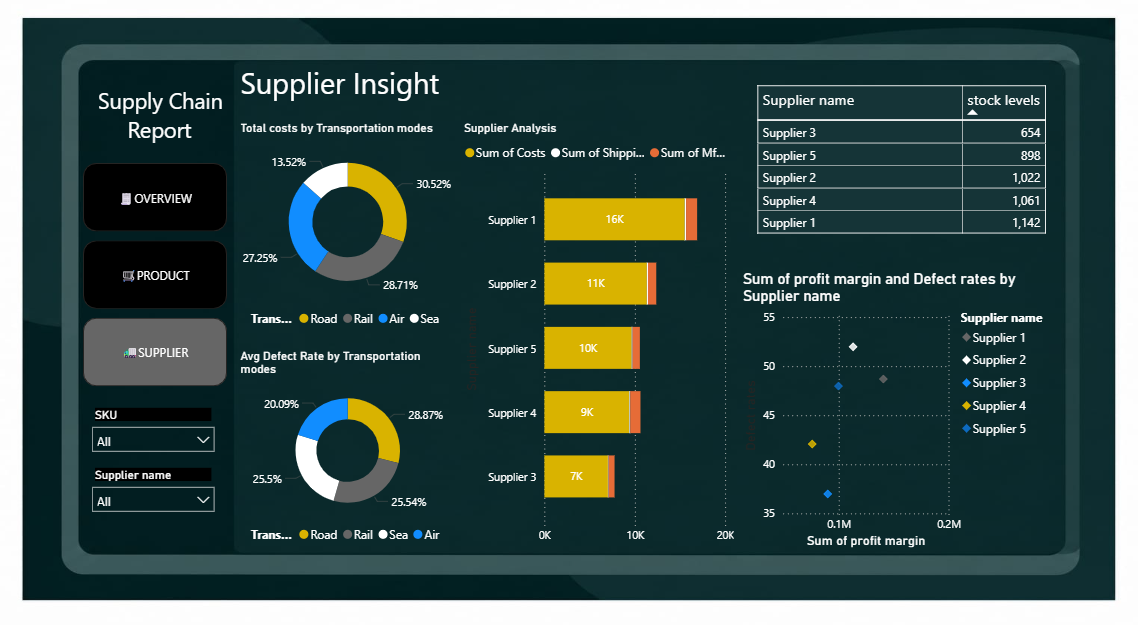

The dashboard page shown, as its layout file describes it:
{"tool":"powerbi","page":{"name":"🚛SUPPLIER","canvas":[1280,720],"ordinal":2},"visuals":[{"type":"donutChart","fields":{"Category":["supply_chain_data.Transportation modes"],"Y":["_measures.Total costs"]},"box":[270.2,147.4,247.6,238.1],"z":0},{"type":"donutChart","fields":{"Category":["supply_chain_data.Transportation modes"],"Y":["_measures.Avg Defect Rate"]},"box":[270.2,400.6,247.6,224.9],"z":1000},{"type":"barChart","title":"Supplier Analysis","fields":{"Category":["supply_chain_data.Supplier name"],"Y":["Sum(supply_chain_data.Costs)","Sum(supply_chain_data.Shipping costs)","Sum(supply_chain_data.Mfg costs)"]},"box":[517.8,147.4,309.9,478.1],"z":2000},{"type":"tableEx","fields":{"Values":["supply_chain_data.Supplier name","_measures.stock levels"]},"box":[843,101.8,343.6,194.1],"z":3000},{"type":"scatterChart","fields":{"Y":["Sum(supply_chain_data.Defect rates)"],"X":["Sum(supply_chain_data.profit margin)"],"Series":["supply_chain_data.Supplier name"]},"box":[827.7,311.8,359.1,313.7],"z":4000},{"type":"textbox","box":[270.2,77.5,485.7,117.2],"z":5000},{"type":"pageNavigator","box":[100.2,194.1,160.7,249.7],"z":6000},{"type":"slicer","fields":{"Values":["supply_chain_data.SKU"]},"box":[100.2,459.7,155.9,74.8],"z":7000},{"type":"slicer","fields":{"Values":["supply_chain_data.Supplier name"]},"box":[100.2,526.5,155.9,74.8],"z":8000},{"type":"textbox","box":[111.3,101.8,160.7,114.5],"z":9000}]}

Visuals, with their boxes in screenshot pixels (x1, y1, x2, y2), scaled from the page's 1280x720 canvas onto the 1138x625 screenshot:
donutChart - supply_chain_data.Transportation modes x _measures.Total costs: locate(240, 128, 460, 335)
donutChart - supply_chain_data.Transportation modes x _measures.Avg Defect Rate: locate(240, 348, 460, 543)
"Supplier Analysis" barChart: locate(460, 128, 736, 543)
tableEx - supply_chain_data.Supplier name x _measures.stock levels: locate(749, 88, 1055, 257)
scatterChart - Sum(supply_chain_data.Defect rates) x Sum(supply_chain_data.profit margin): locate(736, 271, 1055, 543)
textbox: locate(240, 67, 672, 169)
pageNavigator: locate(89, 168, 232, 385)
slicer - supply_chain_data.SKU: locate(89, 399, 228, 464)
slicer - supply_chain_data.Supplier name: locate(89, 457, 228, 522)
textbox: locate(99, 88, 242, 188)
